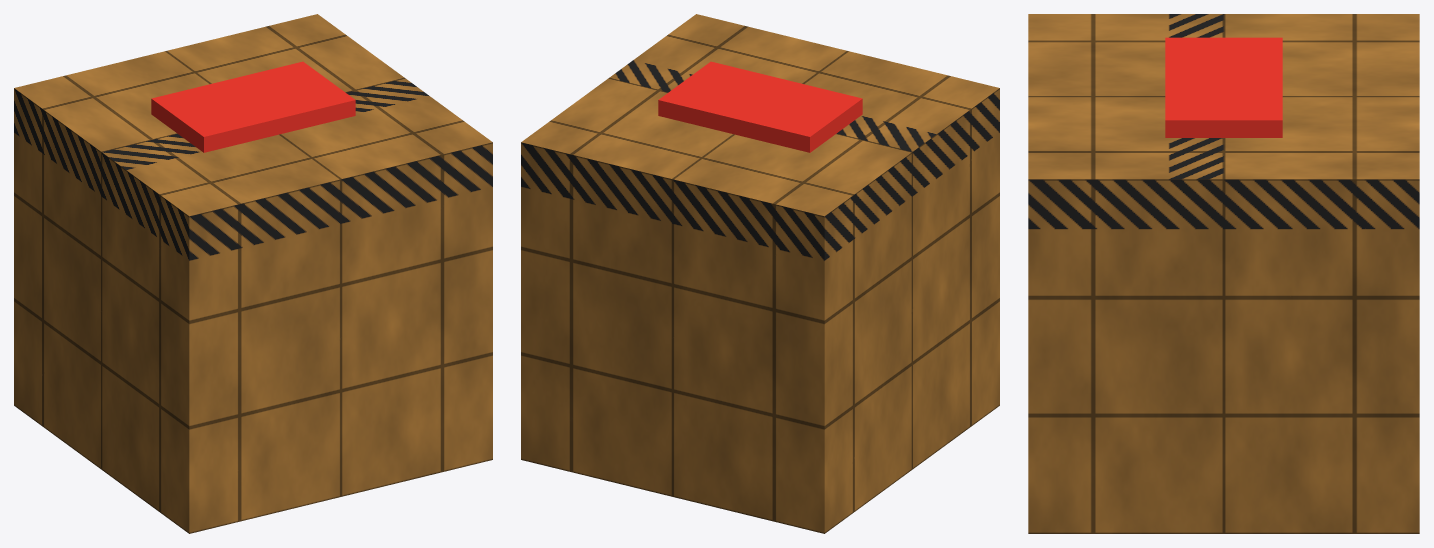
File: crate.glb
3 views of the same model, side by side, from view 1: azimuth 30°, elevation 25°; view 2: azimuth 150°, elevation 25°; view 3: azimuth 270°, elevation 25° (orthographic). The views are drawn at different scales.
Visible parts, largest first — view 1: Crate; view 2: Crate; view 3: Crate.
Boxes of the visible parts, bbox=[...] form: Crate: bbox=[14, 14, 492, 533]; Crate: bbox=[521, 14, 999, 533]; Crate: bbox=[1028, 14, 1419, 533].
Bounding box in the file's own units: 1 × 1.05 × 1.
2 materials, 2 textured.
